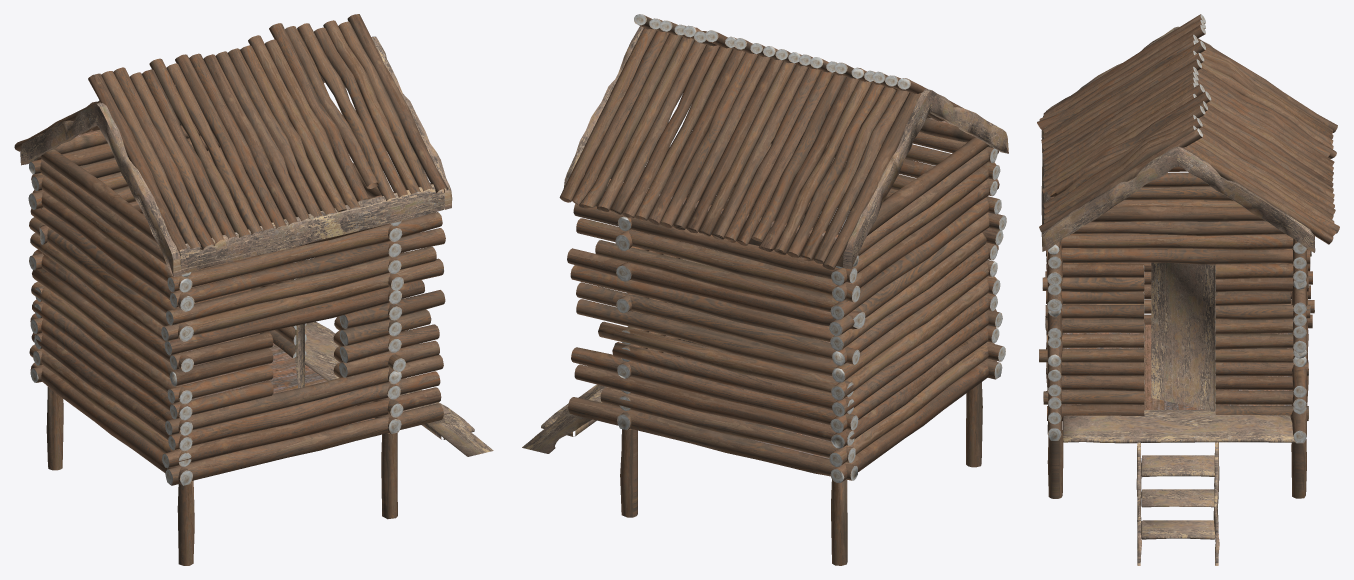
Rendered from shop_highpoly.obj.
3 renders of one model, left to right at view 1: azimuth 30°, elevation 25°; view 2: azimuth 150°, elevation 25°; view 3: azimuth 270°, elevation 25°, orthographic. The views are drawn at different scales.
Parts seen in each view (by area): view 1: Dwelling_Granary_Cylinder.002, Dwelling_Granary_Cylinder.003_Dwelling_Granary_Cylinder.004; view 2: Dwelling_Granary_Cylinder.002; view 3: Dwelling_Granary_Cylinder.002, Dwelling_Granary_Cylinder.001_Dwelling_Granary_Cylinder.003, Dwelling_Granary_Cylinder.003_Dwelling_Granary_Cylinder.004.
Boxes of the visible parts, x1,y1,x2,y2 form: Dwelling_Granary_Cylinder.002: [14, 14, 493, 565]; Dwelling_Granary_Cylinder.003_Dwelling_Granary_Cylinder.004: [182, 333, 374, 426]; Dwelling_Granary_Cylinder.002: [522, 14, 1008, 565]; Dwelling_Granary_Cylinder.002: [1037, 14, 1339, 565]; Dwelling_Granary_Cylinder.001_Dwelling_Granary_Cylinder.003: [1151, 262, 1215, 411]; Dwelling_Granary_Cylinder.003_Dwelling_Granary_Cylinder.004: [1061, 324, 1292, 409].
Bounding box in the file's own units: 6.41 × 7.23 × 5.01.
